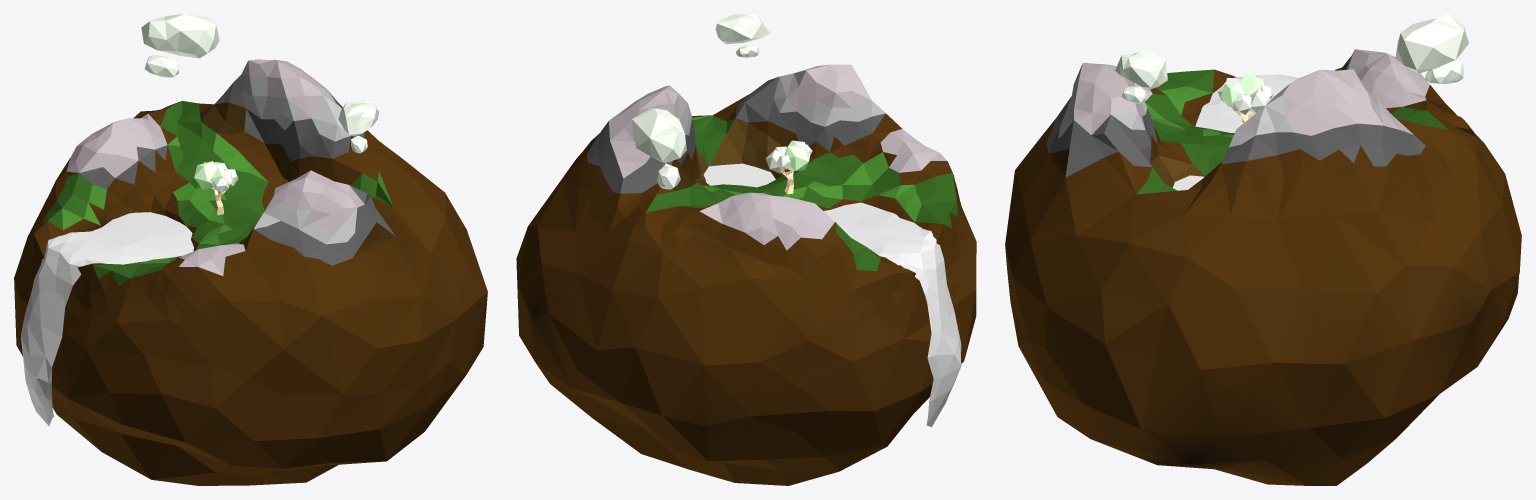
Rendered from insel7.glb.
3 views of the same model, side by side, from view 1: azimuth 30°, elevation 25°; view 2: azimuth 150°, elevation 25°; view 3: azimuth 270°, elevation 25° (orthographic). The views are drawn at different scales.
Visible parts, largest first — view 1: Island, Water, Cloud.002, Cloud.004, Cloud.001; view 2: Island, Water, Cloud.002, Cloud.004, Leaf.004; view 3: Island, Cloud.002, Water, Cloud.004, Cloud.001.
Part boxes in pixels (x1,y1,x2,y2): Island: (14, 59, 487, 485); Water: (21, 212, 193, 425); Cloud.002: (141, 14, 219, 58); Cloud.004: (338, 99, 379, 136); Cloud.001: (144, 55, 178, 77); Island: (516, 64, 976, 485); Water: (703, 163, 961, 427); Cloud.002: (632, 107, 686, 162); Cloud.004: (715, 14, 769, 44); Leaf.004: (784, 145, 810, 170); Island: (1005, 49, 1521, 485); Cloud.002: (1395, 14, 1468, 73); Water: (1173, 74, 1299, 190); Cloud.004: (1115, 52, 1167, 90); Cloud.001: (1425, 61, 1464, 84).
Bounding box in the file's own units: 20.36 × 18.59 × 19.76.
